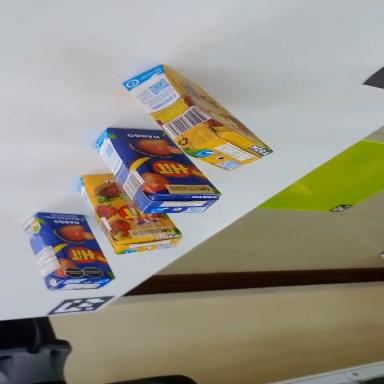HIT-MANGO: (86, 103, 222, 242), (15, 195, 115, 308)
HIT-MORA: (116, 47, 274, 196), (57, 161, 186, 278)
cara_F: (101, 101, 221, 226), (64, 160, 186, 268), (161, 57, 271, 160), (35, 195, 115, 298)
